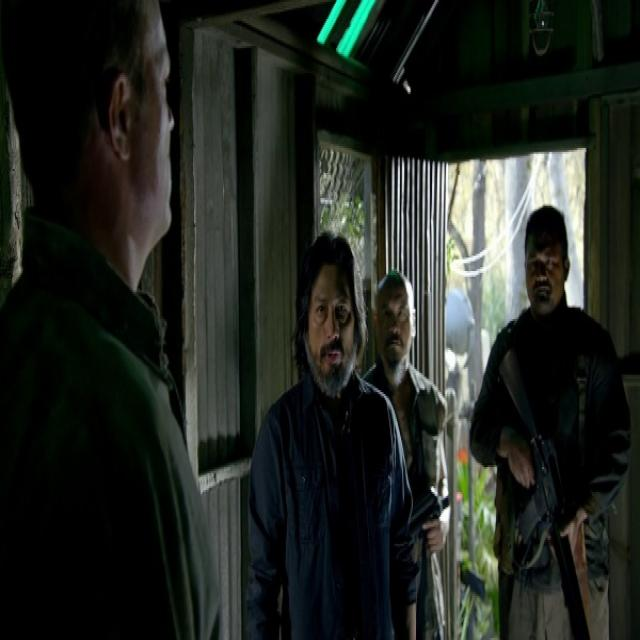rifle: (500, 343, 594, 640)
